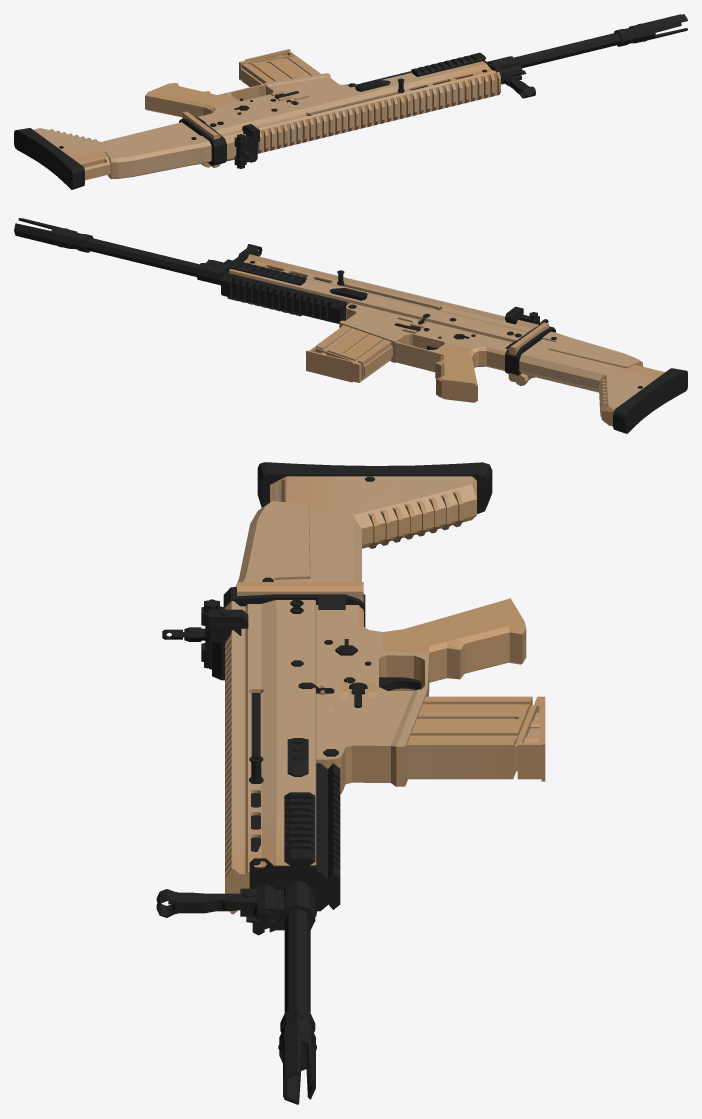
File: scar.glb
3 views of the same model, one above another, from view 1: azimuth 30°, elevation 25°; view 2: azimuth 150°, elevation 25°; view 3: azimuth 270°, elevation 25° (orthographic). The views are drawn at different scales.
Bounding box in the file's own units: 0.9506 × 0.0593 × 0.2573.
